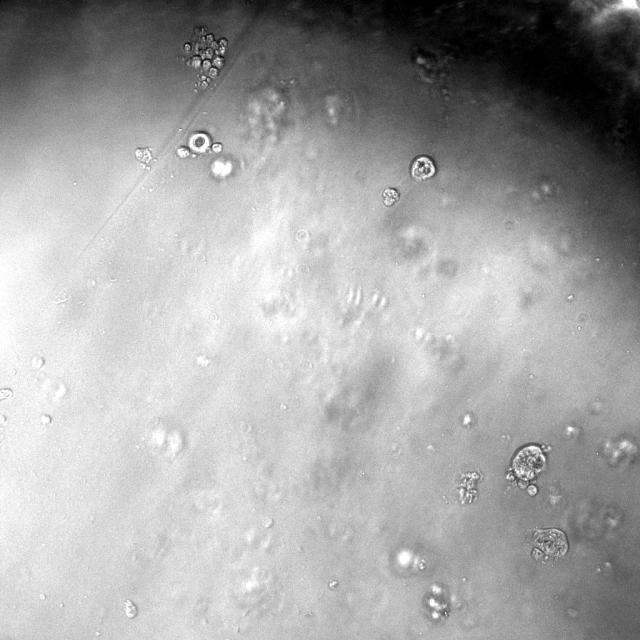organoid: (183, 26, 227, 94), (506, 443, 550, 497), (177, 131, 222, 158), (531, 529, 568, 561), (422, 584, 451, 622), (455, 471, 481, 505), (410, 156, 436, 182), (134, 147, 153, 170), (382, 187, 399, 206), (123, 600, 138, 617)
